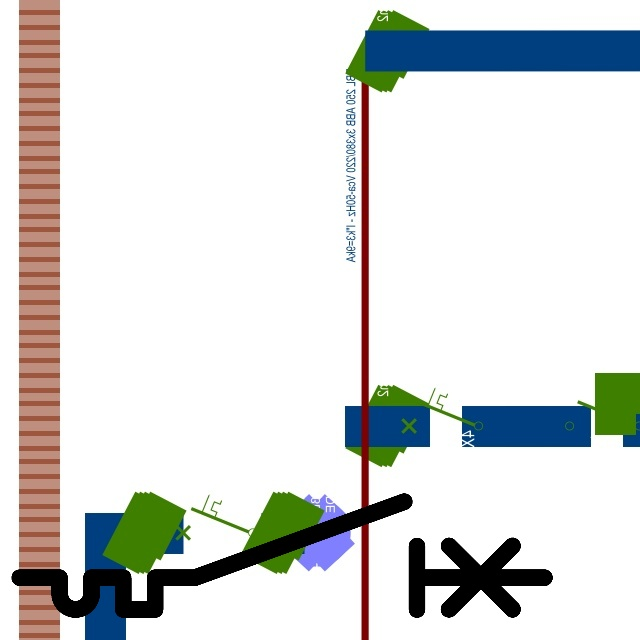interruptor_termomagnetico: (6, 488, 558, 623)
